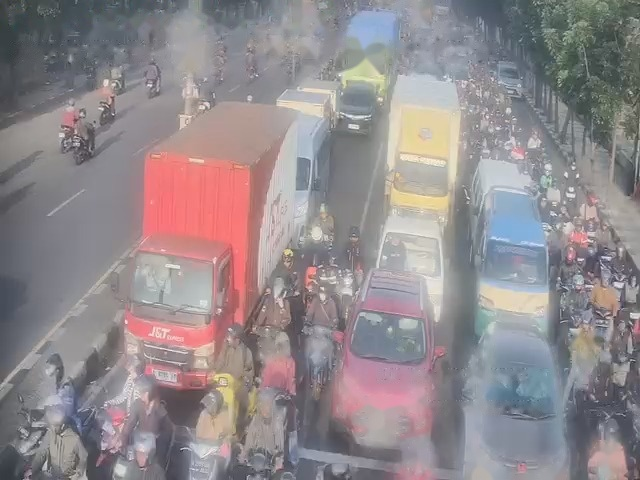Bis: (295, 111, 329, 235)
